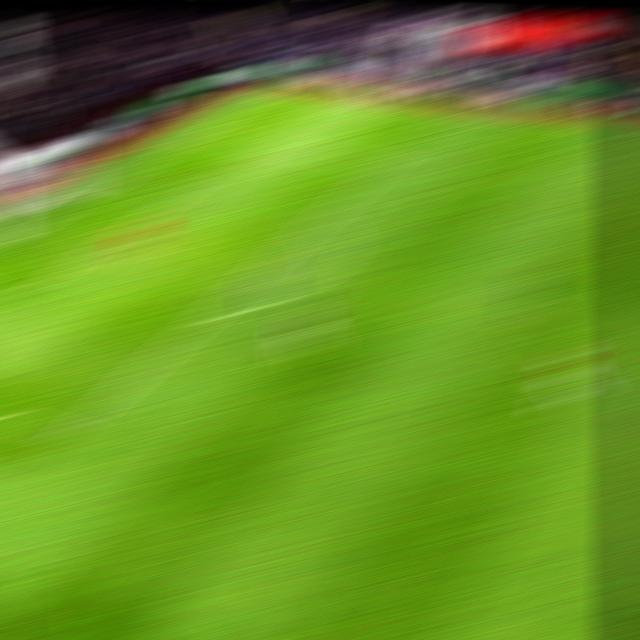bigarea_bottom_inner: (49, 426, 86, 440)
bigarea_top_inner: (371, 160, 404, 167)
bigarea_top_outter: (188, 132, 217, 137)
bottom_arc_area_intersection: (190, 313, 223, 321)
corner: (264, 88, 295, 90)
smallarea_bottom_inner: (4, 289, 40, 302)
smallarea_top_inner: (170, 189, 202, 193)
smallarea_top_outter: (109, 177, 140, 181)
top_arc_area_intersection: (303, 219, 333, 227)
